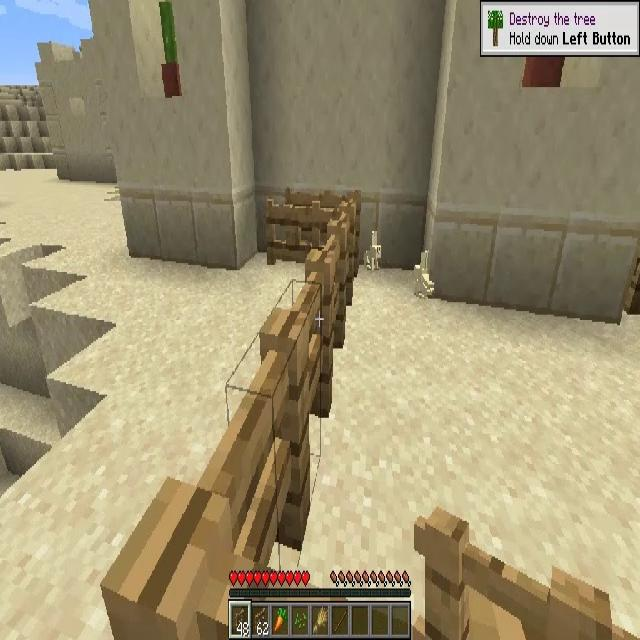rabbit: (414, 245, 436, 301), (364, 230, 382, 271)
